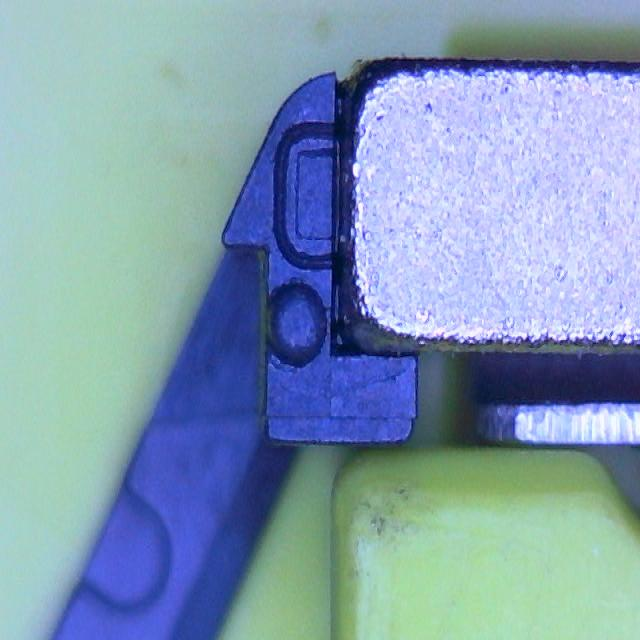lacking: (270, 121, 340, 271)
